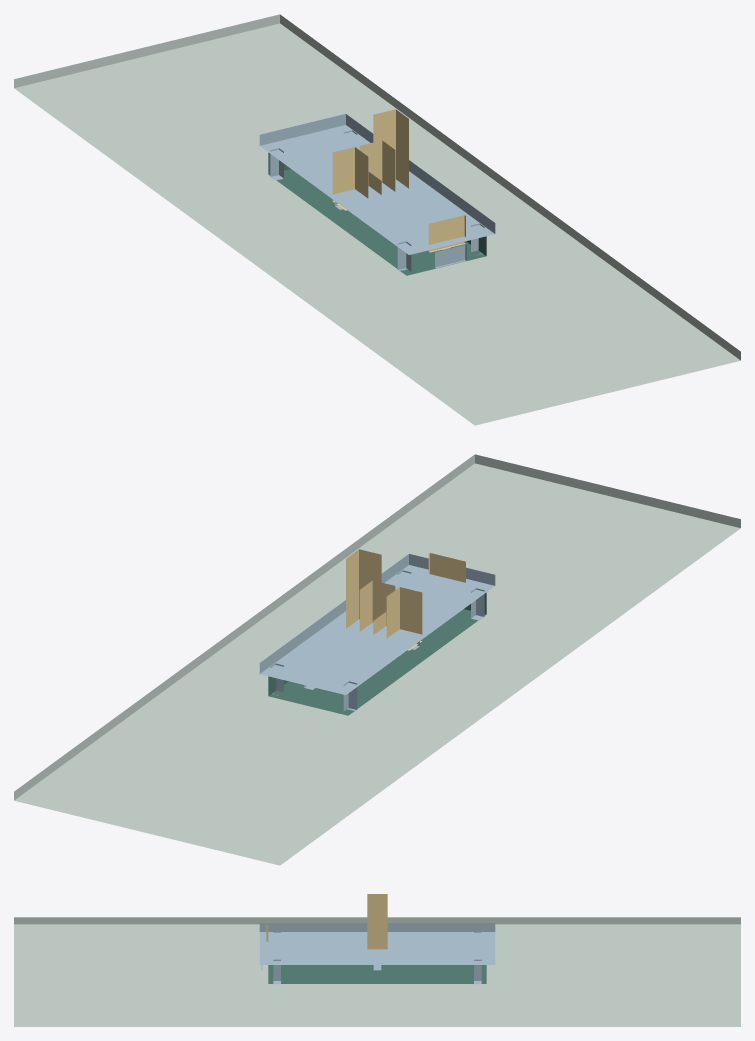
The model's file is bridge.glb.
3 views of the same model, one above another, from view 1: azimuth 30°, elevation 25°; view 2: azimuth 150°, elevation 25°; view 3: azimuth 270°, elevation 25° (orthographic). The views are drawn at different scales.
Visible parts, largest first — view 1: Foundation, Roof, Details, Walls, Frame; view 2: Foundation, Roof, Details, Walls, Frame; view 3: Foundation, Roof, Walls, Details, Frame.
Part boxes in pixels (x1,y1,x2,y2): Foundation: [14, 14, 740, 425]; Roof: [259, 114, 495, 254]; Details: [332, 109, 466, 268]; Walls: [268, 152, 486, 275]; Frame: [270, 130, 484, 273]; Foundation: [14, 454, 740, 865]; Roof: [259, 554, 495, 694]; Details: [346, 549, 465, 650]; Walls: [268, 592, 486, 715]; Frame: [270, 570, 484, 713]; Foundation: [14, 917, 740, 1026]; Roof: [259, 923, 495, 964]; Walls: [268, 965, 486, 983]; Details: [261, 894, 387, 970]; Frame: [273, 931, 481, 984].
Bounding box in the file's own units: 20 × 7.5 × 60.
